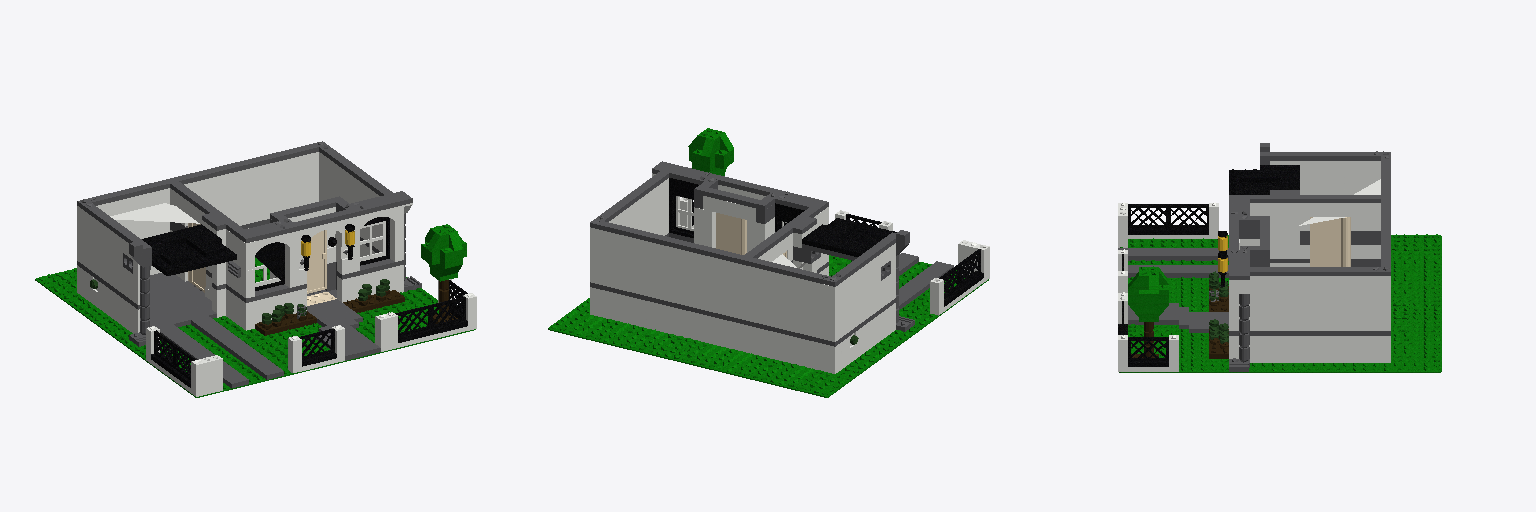
3 renders of one model, left to right at view 1: azimuth 30°, elevation 25°; view 2: azimuth 150°, elevation 25°; view 3: azimuth 270°, elevation 25°, orthographic.
Size of the model in its own units: 9.41 by 3.12 by 9.39.
Materials: 9 (8 with a texture image).